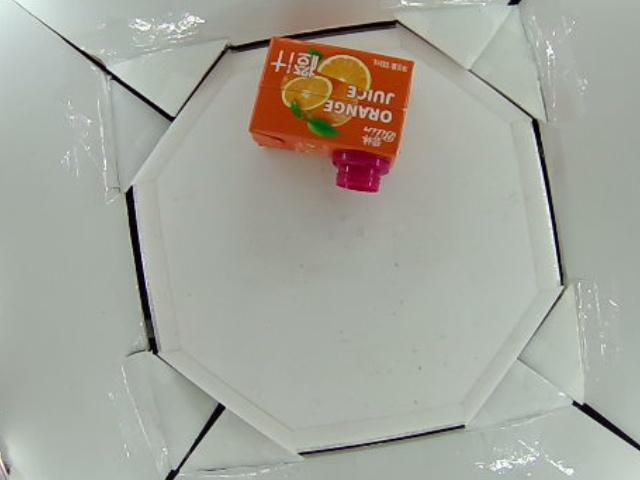Bottle: (250, 34, 415, 195)
